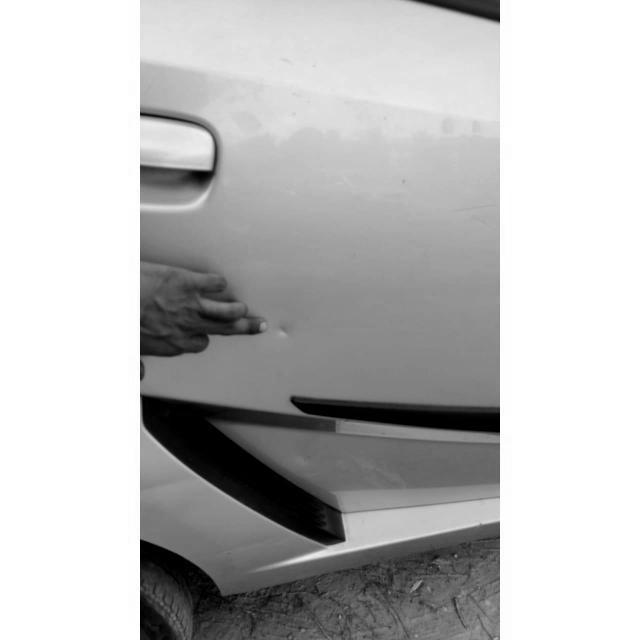doorouter-dent: (141, 9, 500, 435)
